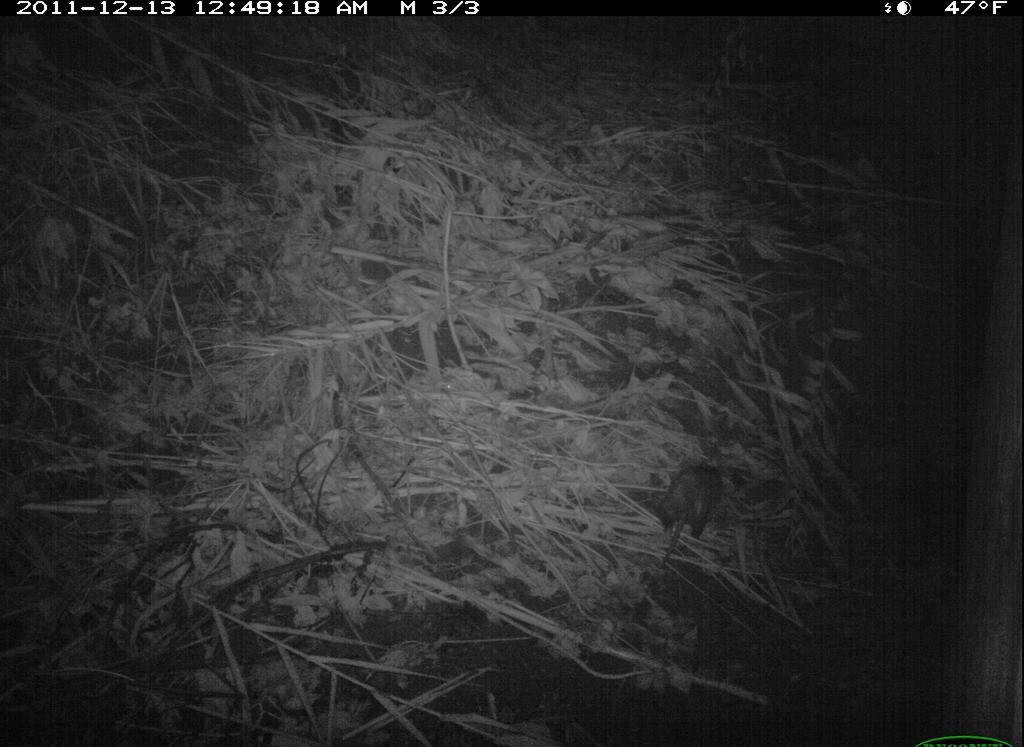opossum: (653, 454, 733, 596)
